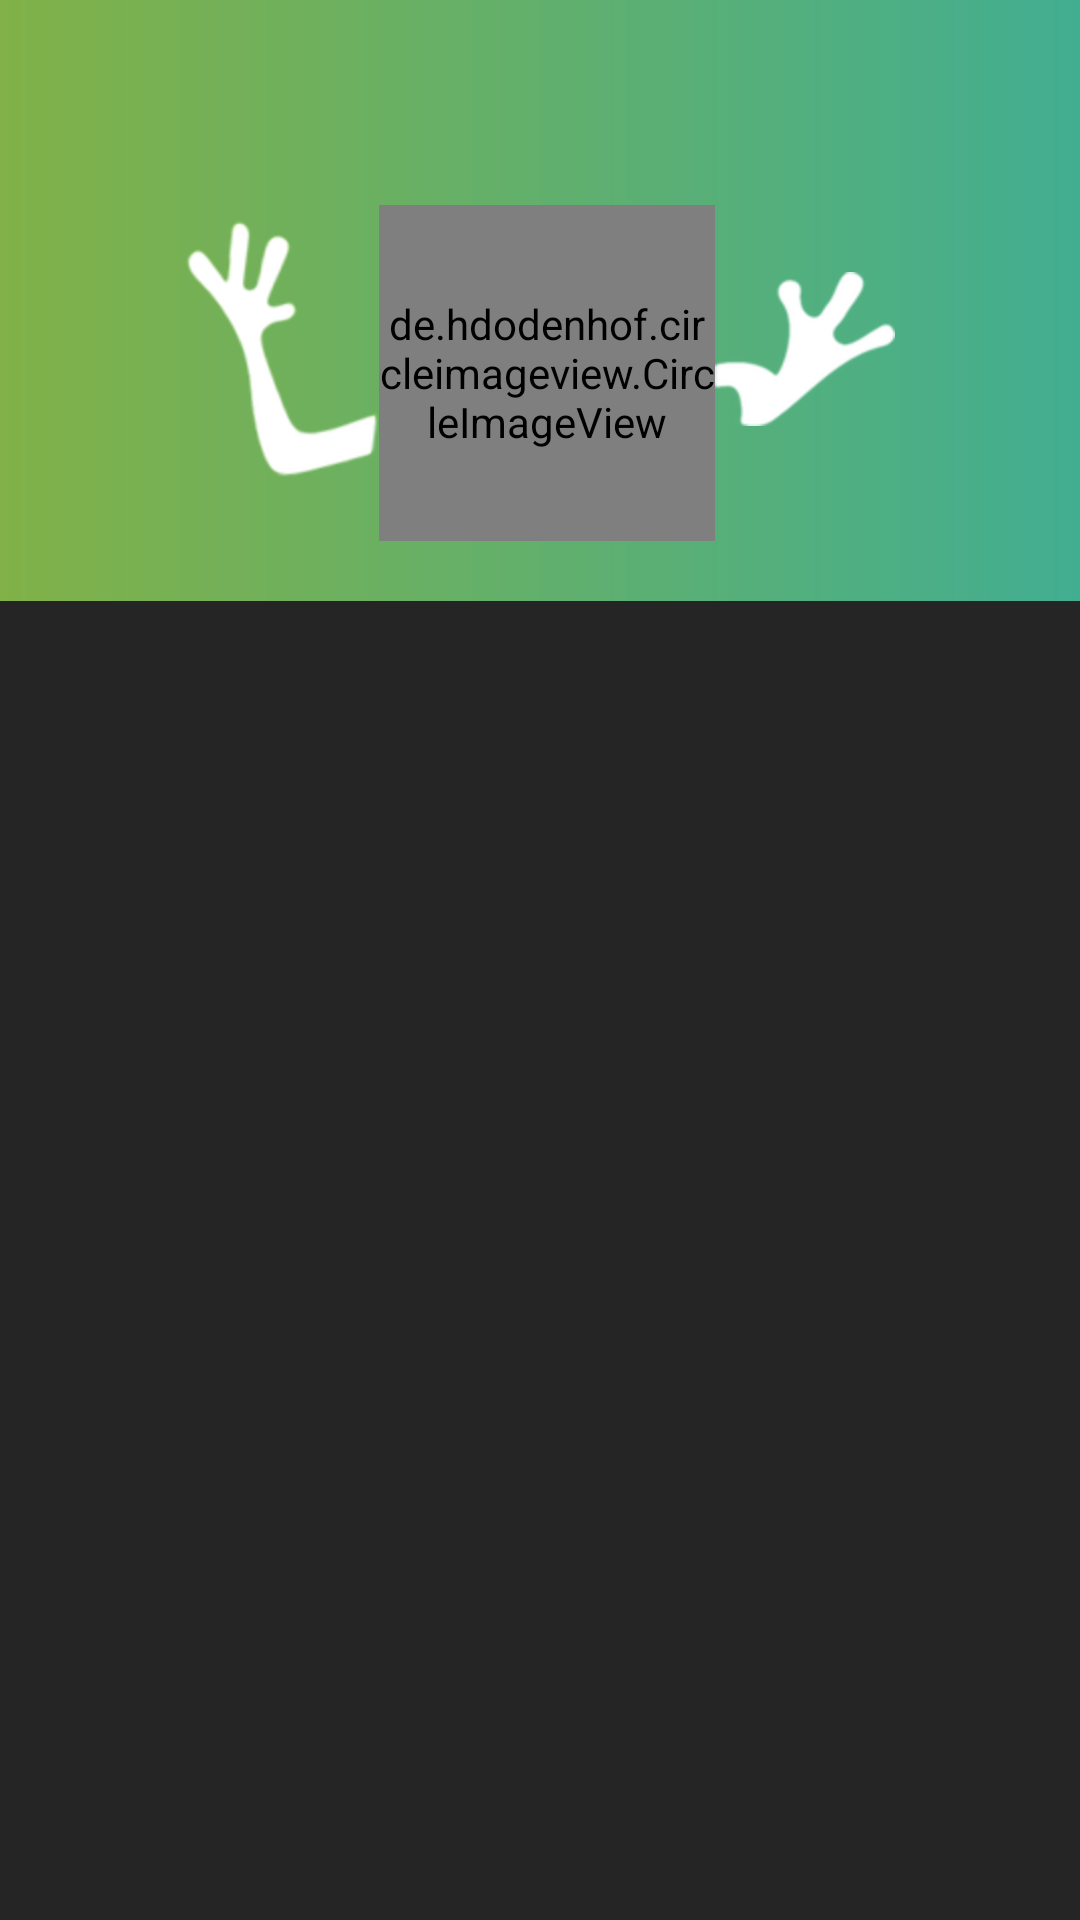

Icon click points for this 1080 x 1920 phone screenshot, format (x,y):
frog hand left: (282,349)
frog hand right: (805,349)
